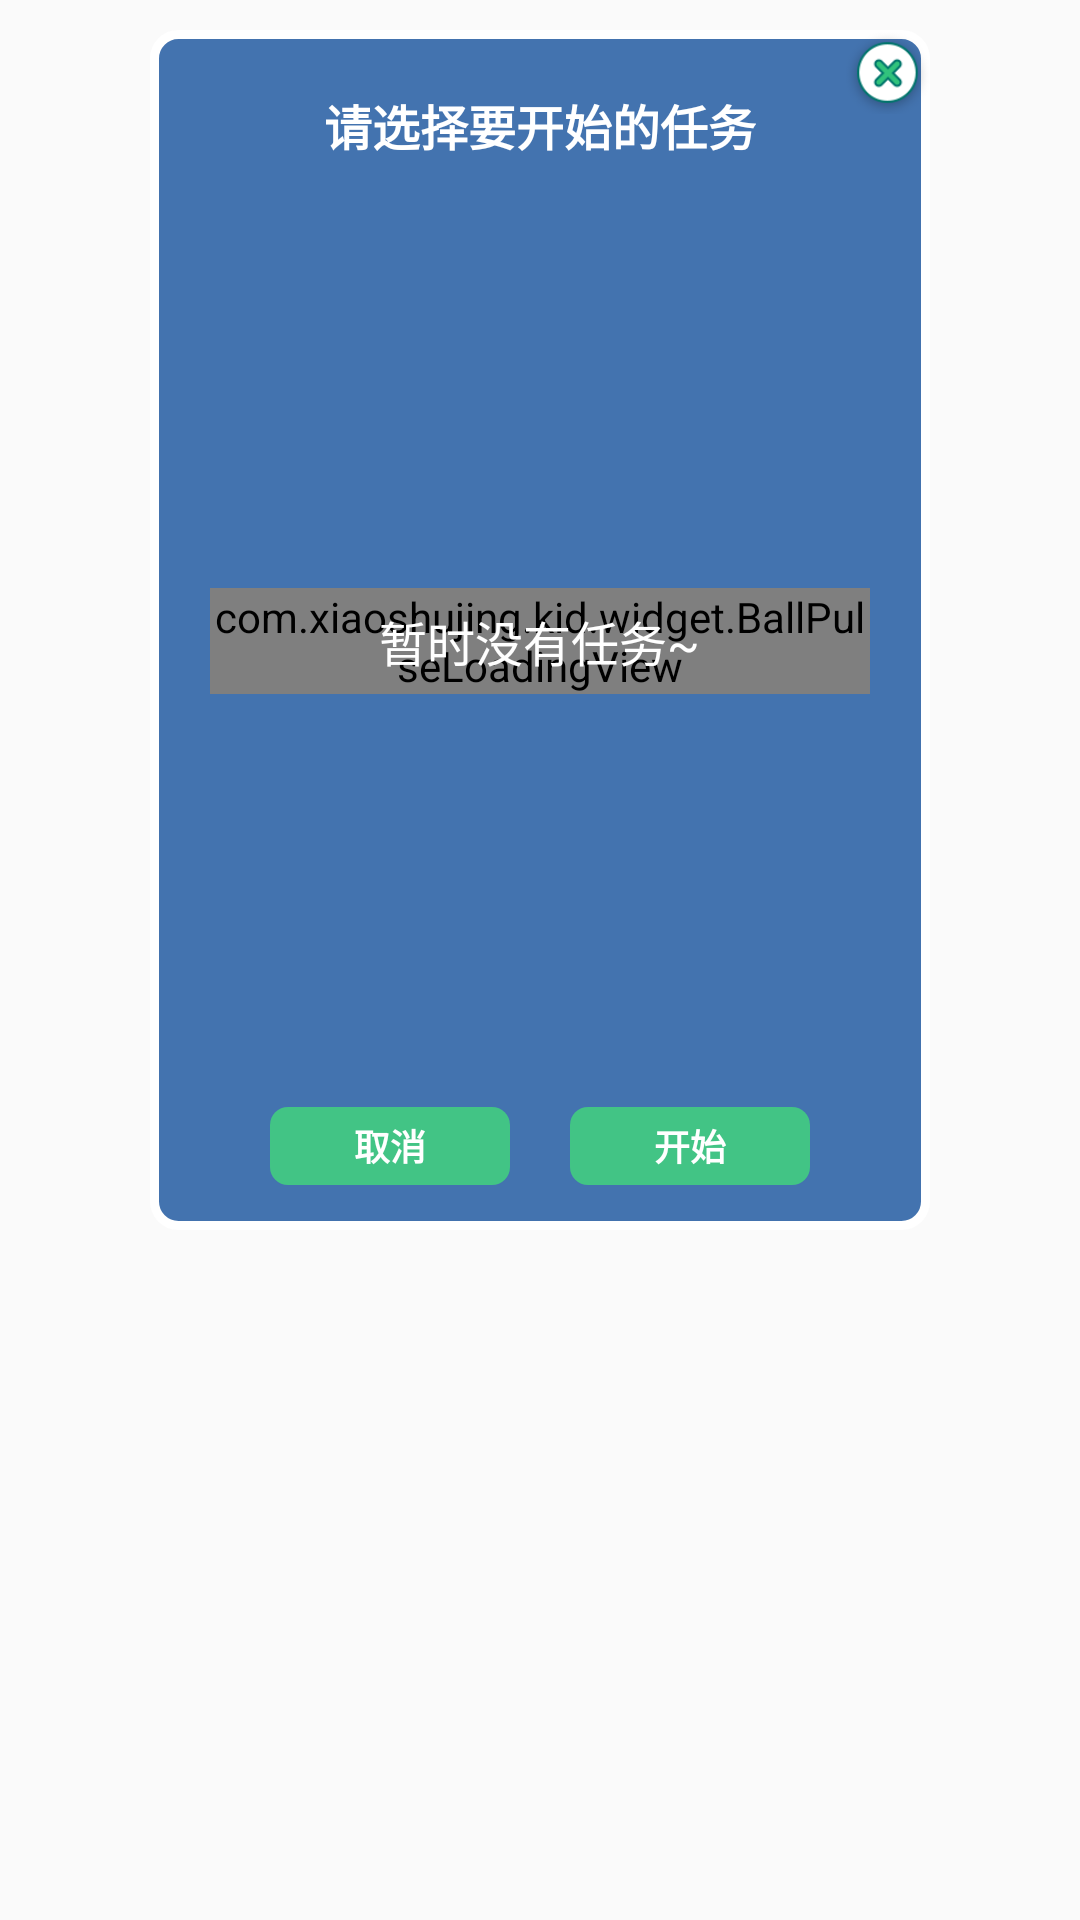

Icon click points for this 1080px x 1920px phone screenshot, format point (x, y):
delete: point (888, 72)
